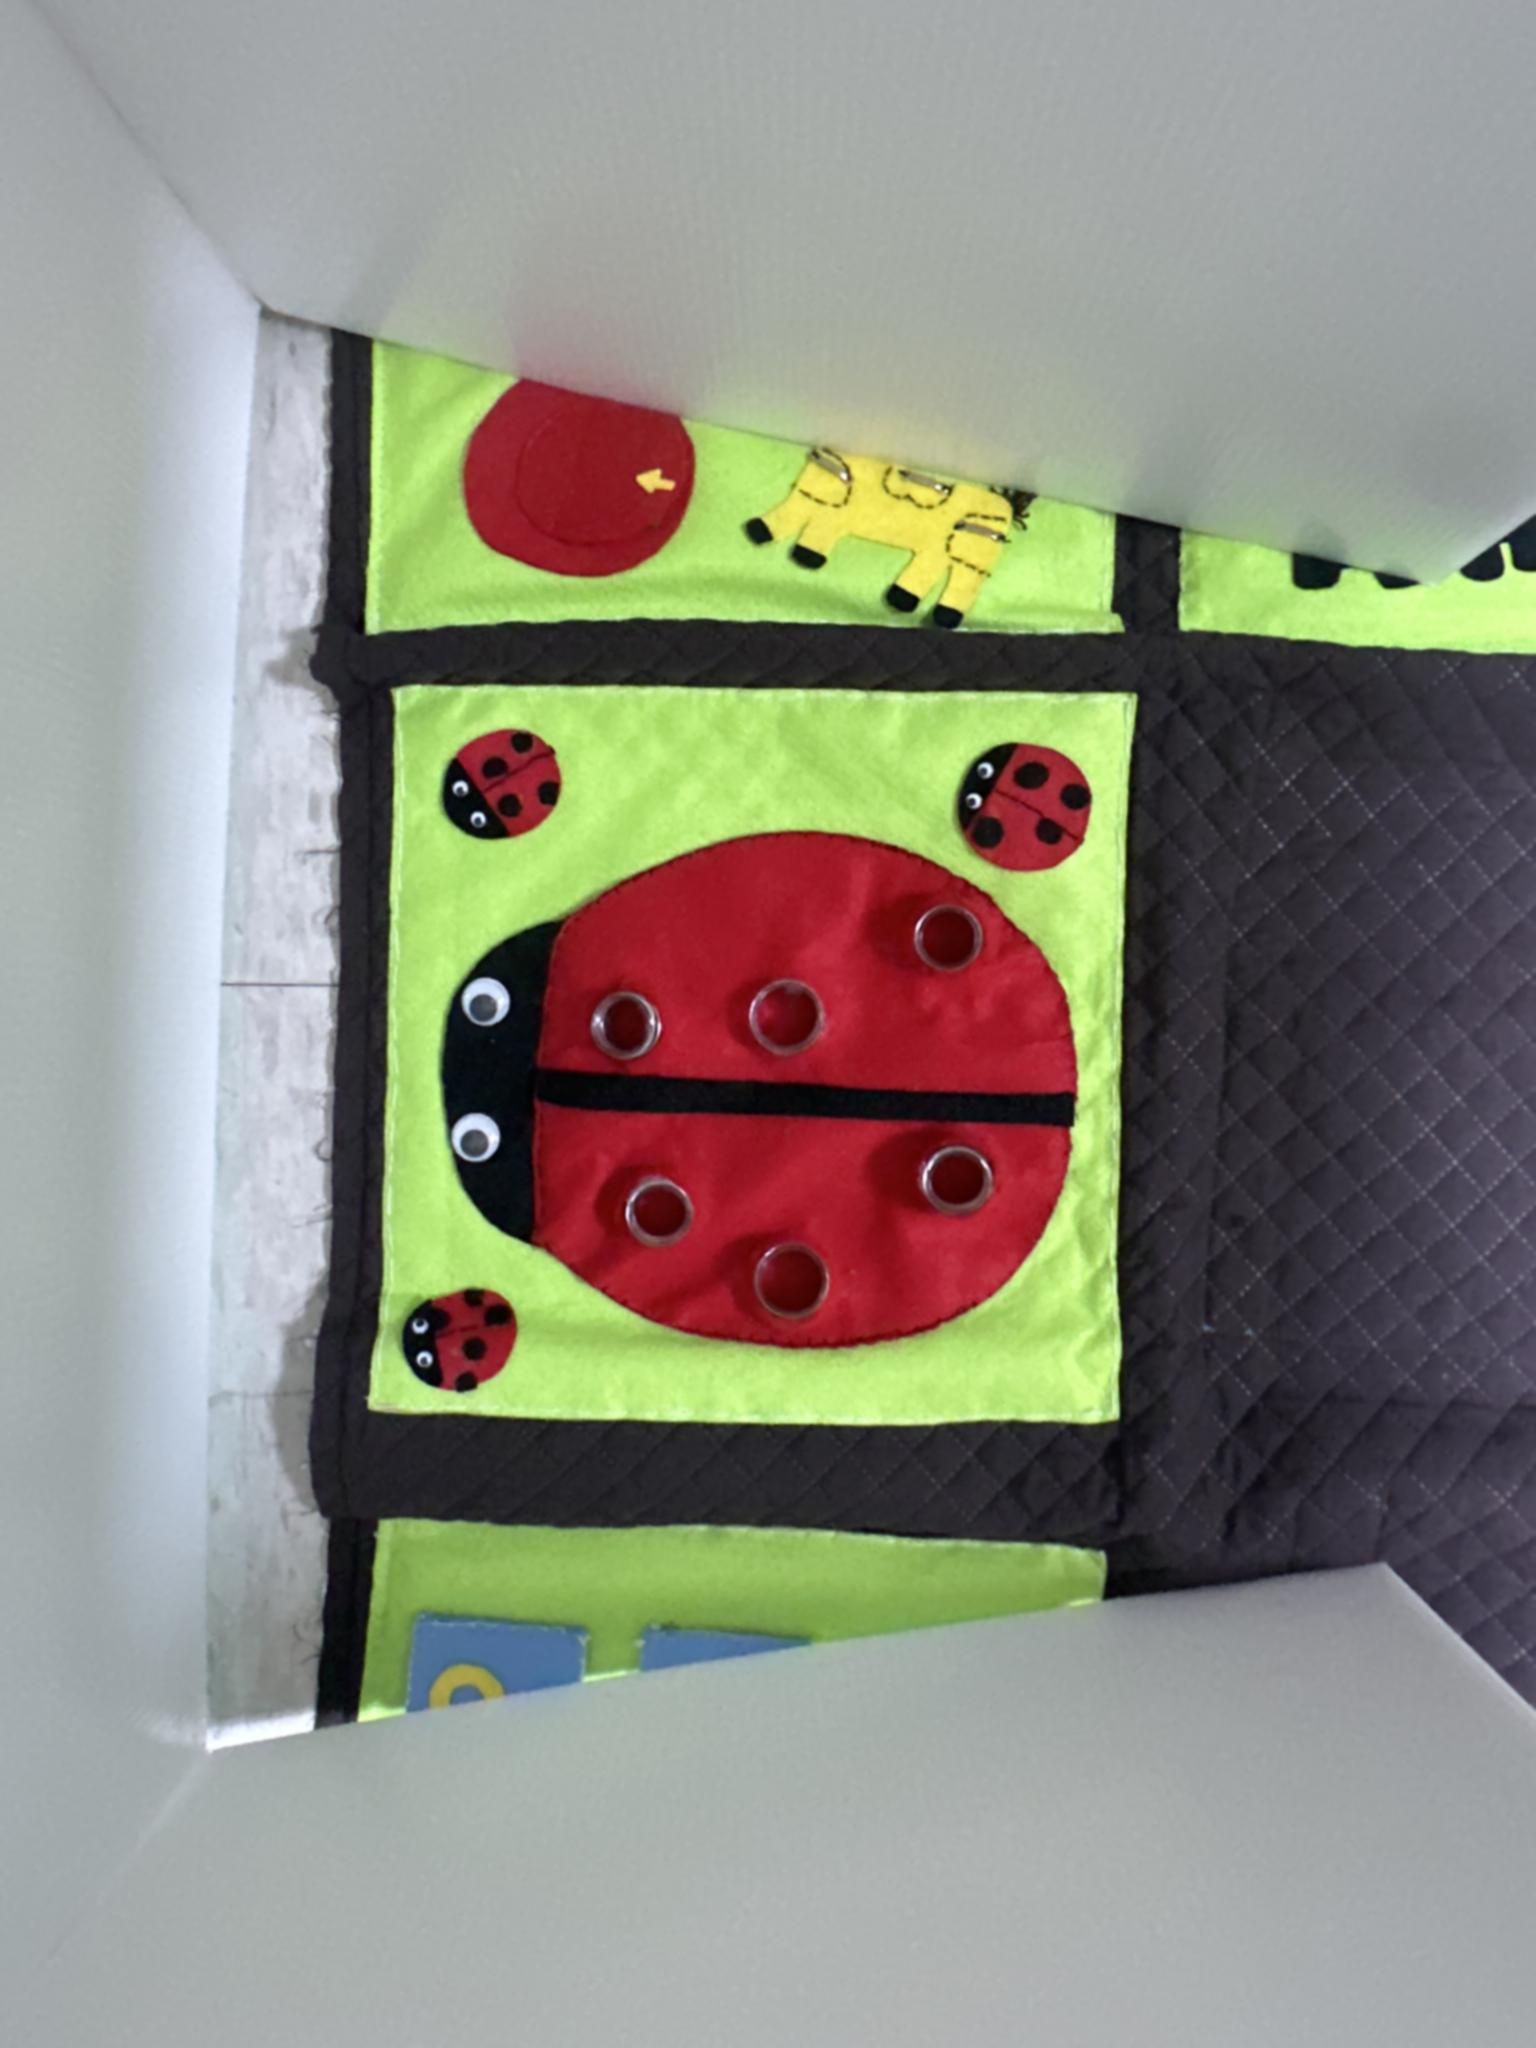hole: (750, 1243, 828, 1322), (742, 980, 820, 1055), (916, 1145, 995, 1218), (584, 990, 660, 1061), (913, 905, 986, 976), (620, 1180, 695, 1248)
ladybug_case: (440, 816, 1078, 1356)
